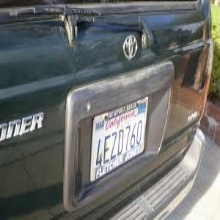no damage: (1, 42, 212, 220)
